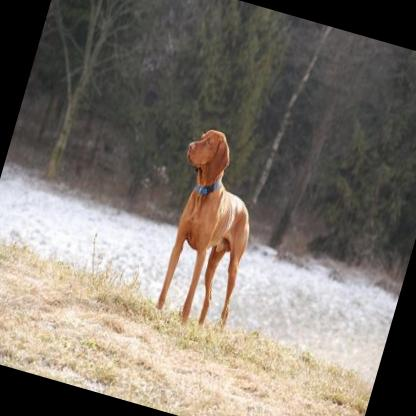vizsla: (142, 122, 276, 330)
